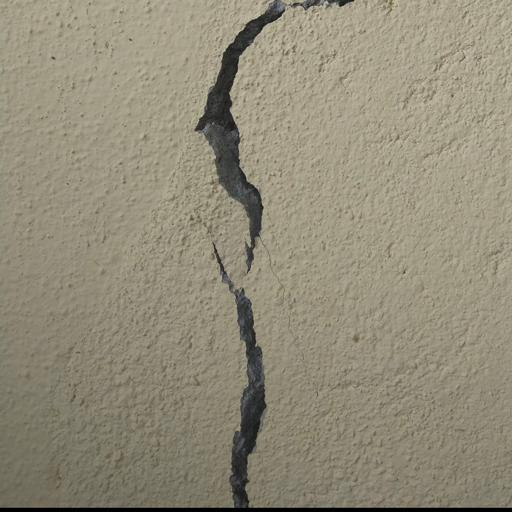major_crack: (187, 0, 320, 266), (175, 238, 302, 512)
